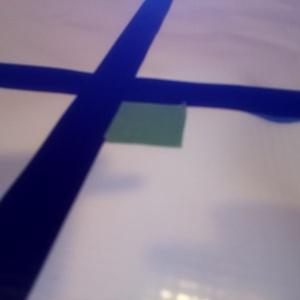bottom_right: (77, 81, 186, 147)
